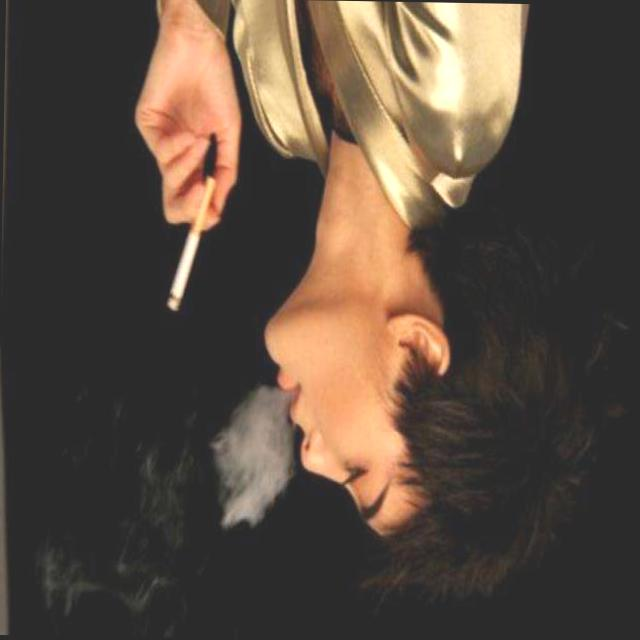cigarette: (166, 224, 204, 308)
